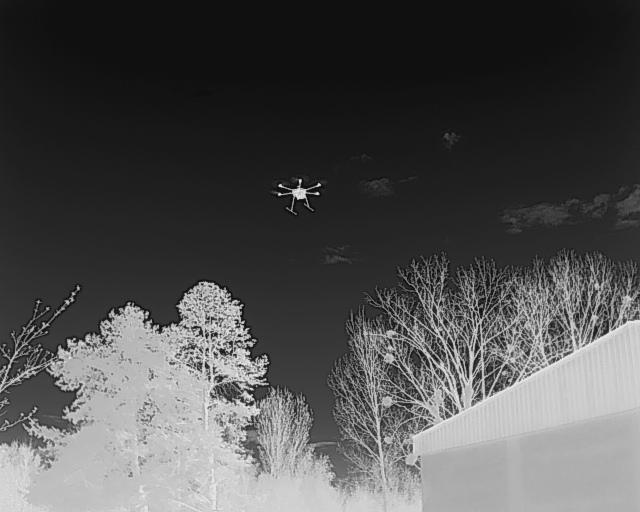drone: (265, 175, 327, 218)
